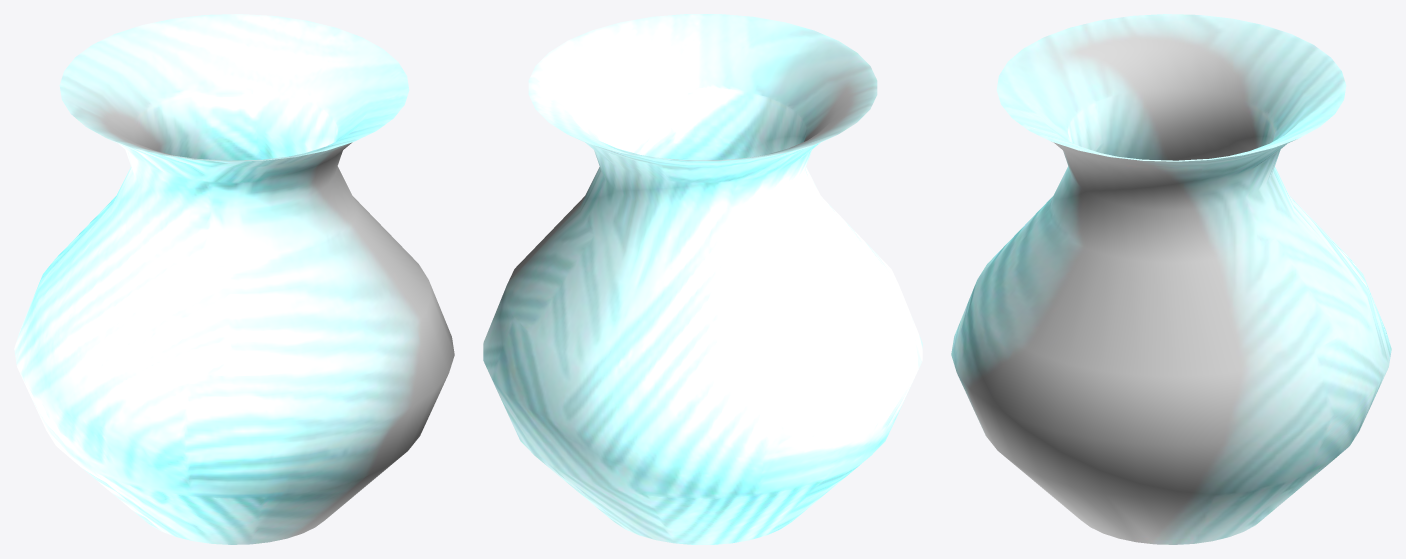
Rendered from vaso azzurro.glb.
3 renders of one model, left to right at view 1: azimuth 30°, elevation 25°; view 2: azimuth 150°, elevation 25°; view 3: azimuth 270°, elevation 25°, orthographic.
Parts seen in each view (by area): view 1: vaso mensola.1; view 2: vaso mensola.1; view 3: vaso mensola.1.
Part boxes in pixels (box(x1,y1,x2,y2)): vaso mensola.1: box(14, 14, 454, 544); vaso mensola.1: box(483, 14, 922, 544); vaso mensola.1: box(951, 14, 1391, 544).
Bounding box in the file's own units: 23.28 × 24.21 × 23.28.
